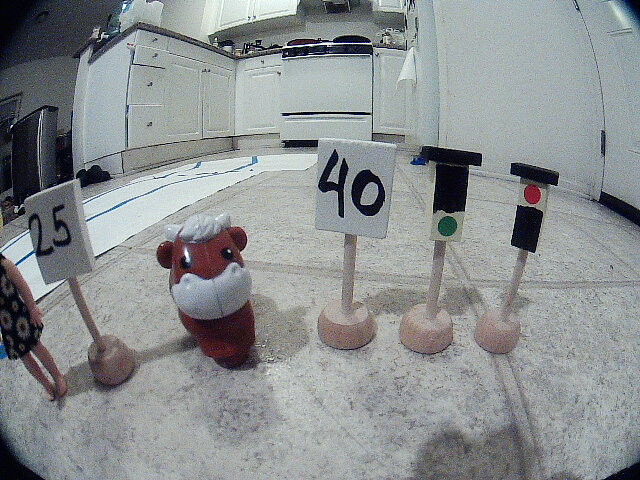Cow: (135, 210, 275, 395)
Green Traffic Light: (409, 136, 489, 262)
Red Traffic Light: (499, 142, 569, 281)
Speed Limit 25: (13, 183, 120, 290)
Speed Limit 40: (294, 125, 418, 256)
